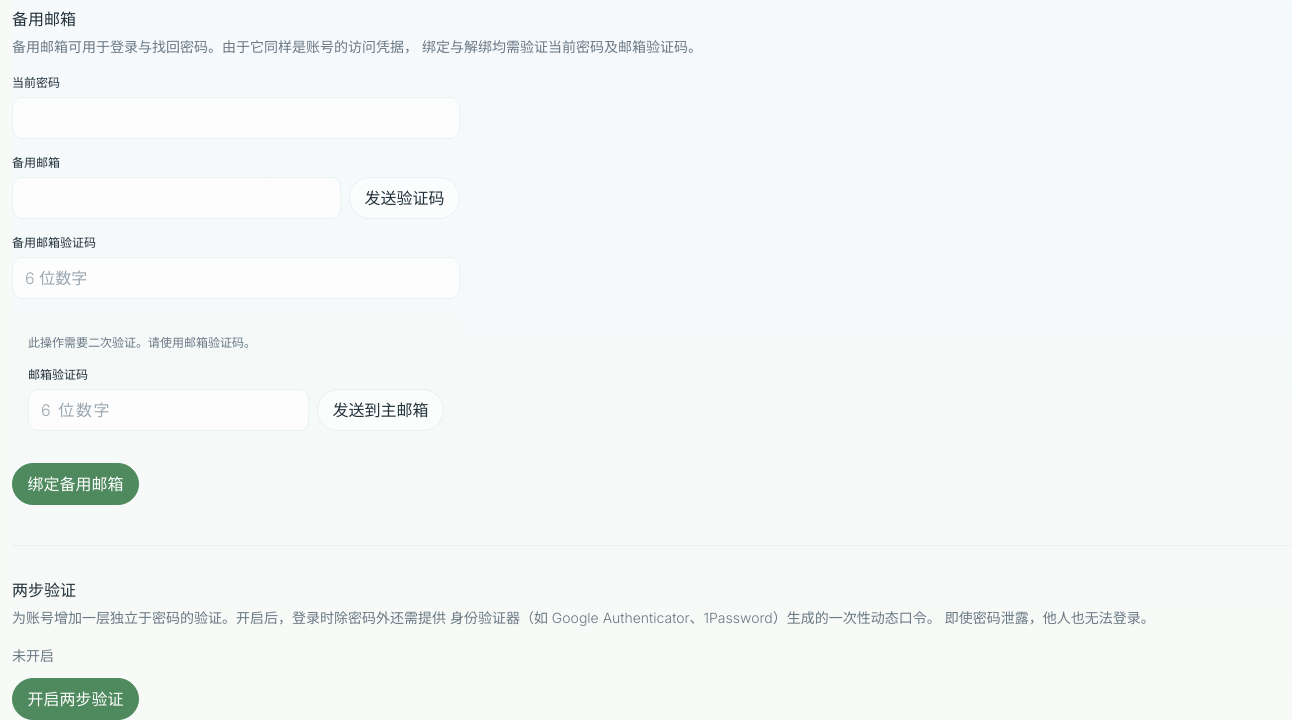
Test case: security settings › does not enable 2FA until a code is verified
This screenshot has width=1292, height=720.
(page scrolled)
Expected: the text "未开启" is shown, [12,647,54,664]
Click the button "开启两步验证": click(75, 699) [12,678,139,719]
(page scrolled)
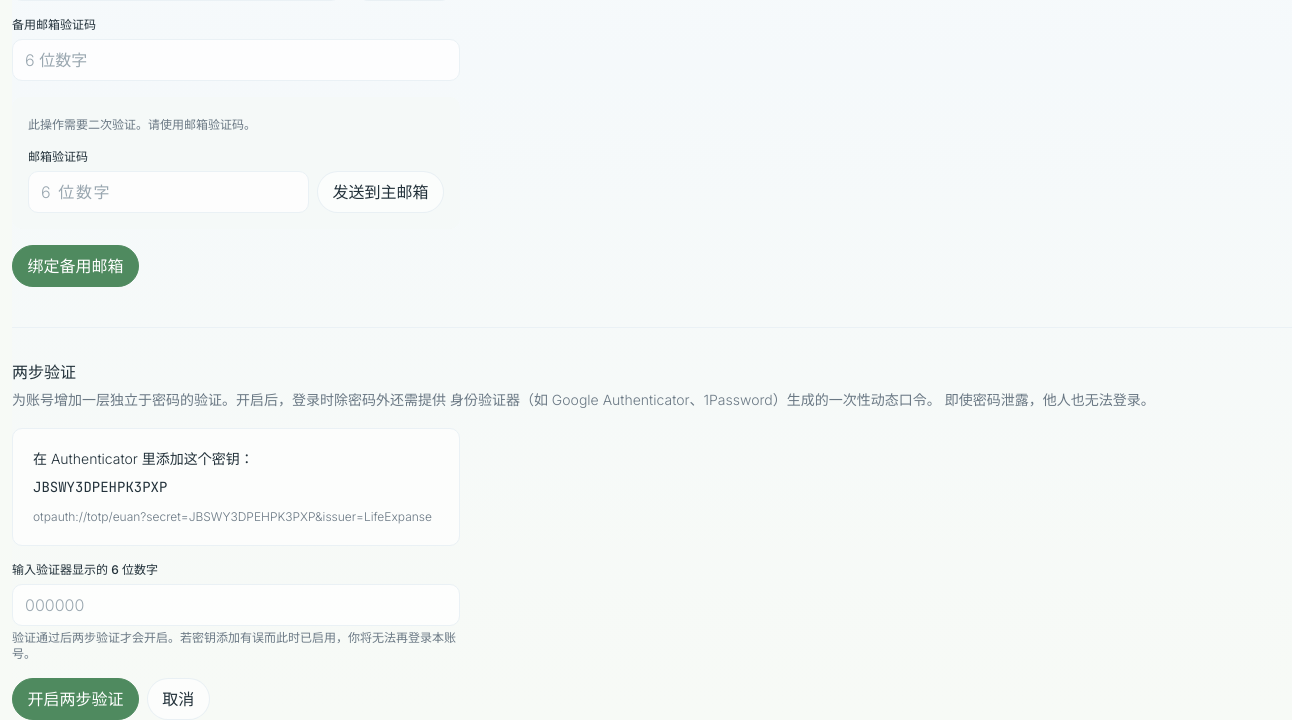
Result: the field labelled "输入验证器显示的 6 位数字" is shown at [12,584,460,626]
